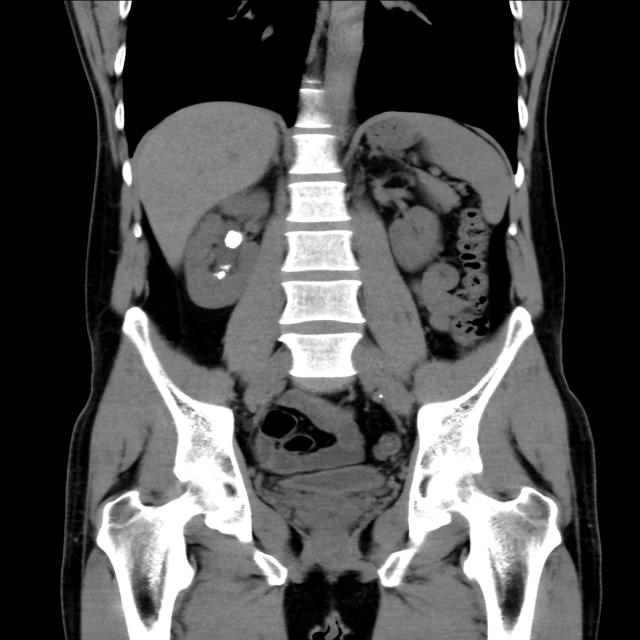kidneystone: (225, 230, 243, 248), (215, 264, 232, 279)
